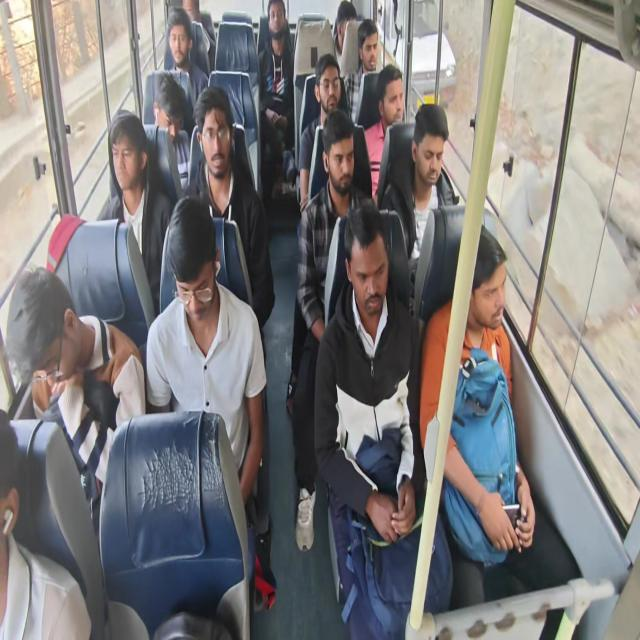person: (10, 278, 81, 389), (173, 222, 216, 322), (343, 228, 388, 322), (471, 240, 512, 337), (108, 117, 146, 187), (200, 104, 233, 180), (418, 110, 448, 192), (323, 126, 356, 191), (156, 94, 187, 142), (375, 83, 406, 126), (168, 18, 188, 64), (317, 71, 341, 109), (335, 6, 355, 50), (265, 3, 287, 39), (363, 31, 381, 68)
